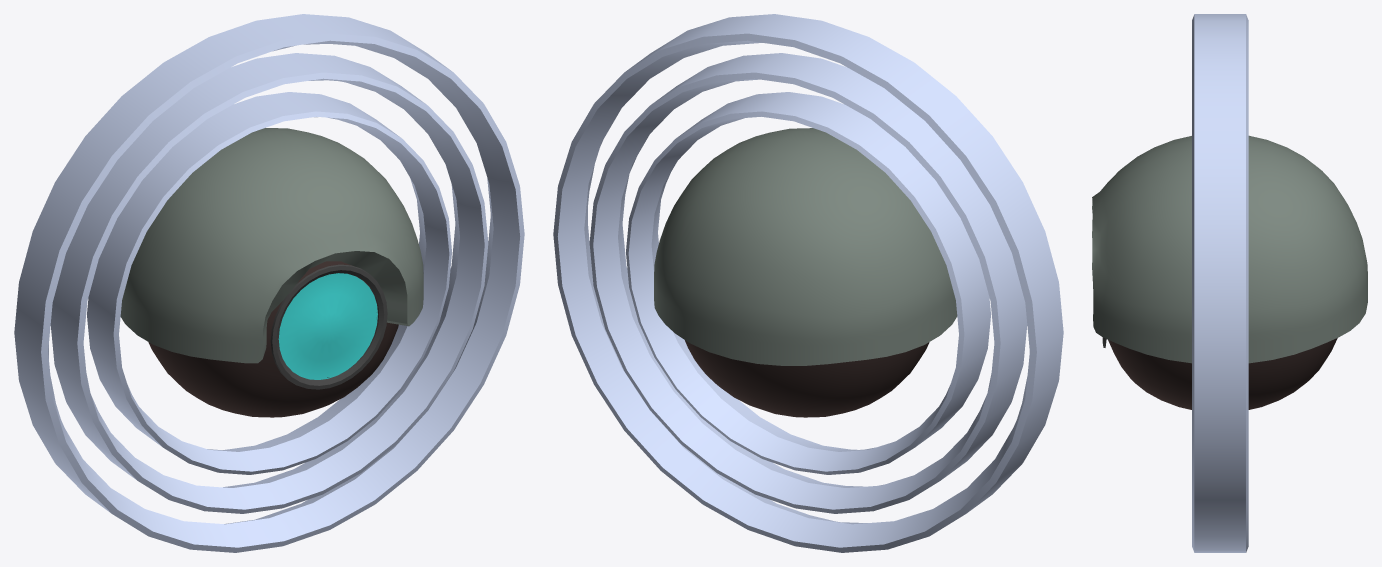
Rendered from enemy_gimbal.glb.
The picture shows the model from 3 angles, left to right: view 1: azimuth 30°, elevation 25°; view 2: azimuth 150°, elevation 25°; view 3: azimuth 270°, elevation 25°; orthographic projection. The views are drawn at different scales.
Visible parts, largest first — view 1: Helmet, Ring 1, Ring 2, Ring 3, Core; view 2: Helmet, Ring 1, Ring 2, Ring 3, Core; view 3: Helmet, Ring 1, Core.
Part boxes in pixels (<box>): Helmet: <box>120,128,423,389</box>; Ring 1: <box>14,14,524,552</box>; Ring 2: <box>50,53,488,513</box>; Ring 3: <box>87,92,451,474</box>; Core: <box>148,261,398,417</box>; Helmet: <box>654,128,957,365</box>; Ring 1: <box>553,14,1063,552</box>; Ring 2: <box>589,53,1027,513</box>; Ring 3: <box>626,92,990,474</box>; Core: <box>685,340,929,417</box>; Helmet: <box>1092,135,1367,363</box>; Ring 1: <box>1192,14,1248,552</box>; Core: <box>1108,338,1337,409</box>.
Size of what is drawn, in the model's own units: 1.54 by 1.54 by 0.7893.
